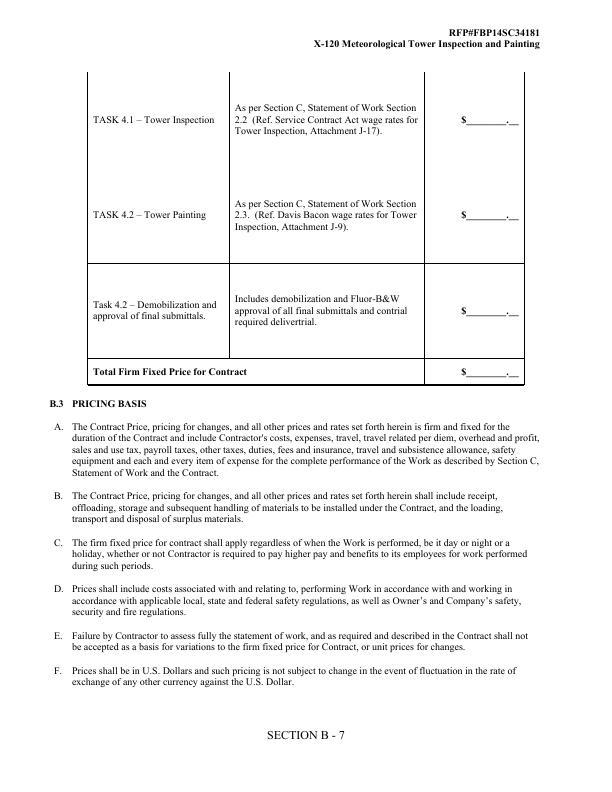table: (84, 67, 531, 391)
text: (52, 421, 547, 479), (51, 535, 532, 573), (52, 489, 516, 528), (51, 581, 529, 618), (52, 628, 538, 656), (51, 664, 529, 690), (47, 398, 149, 412)
